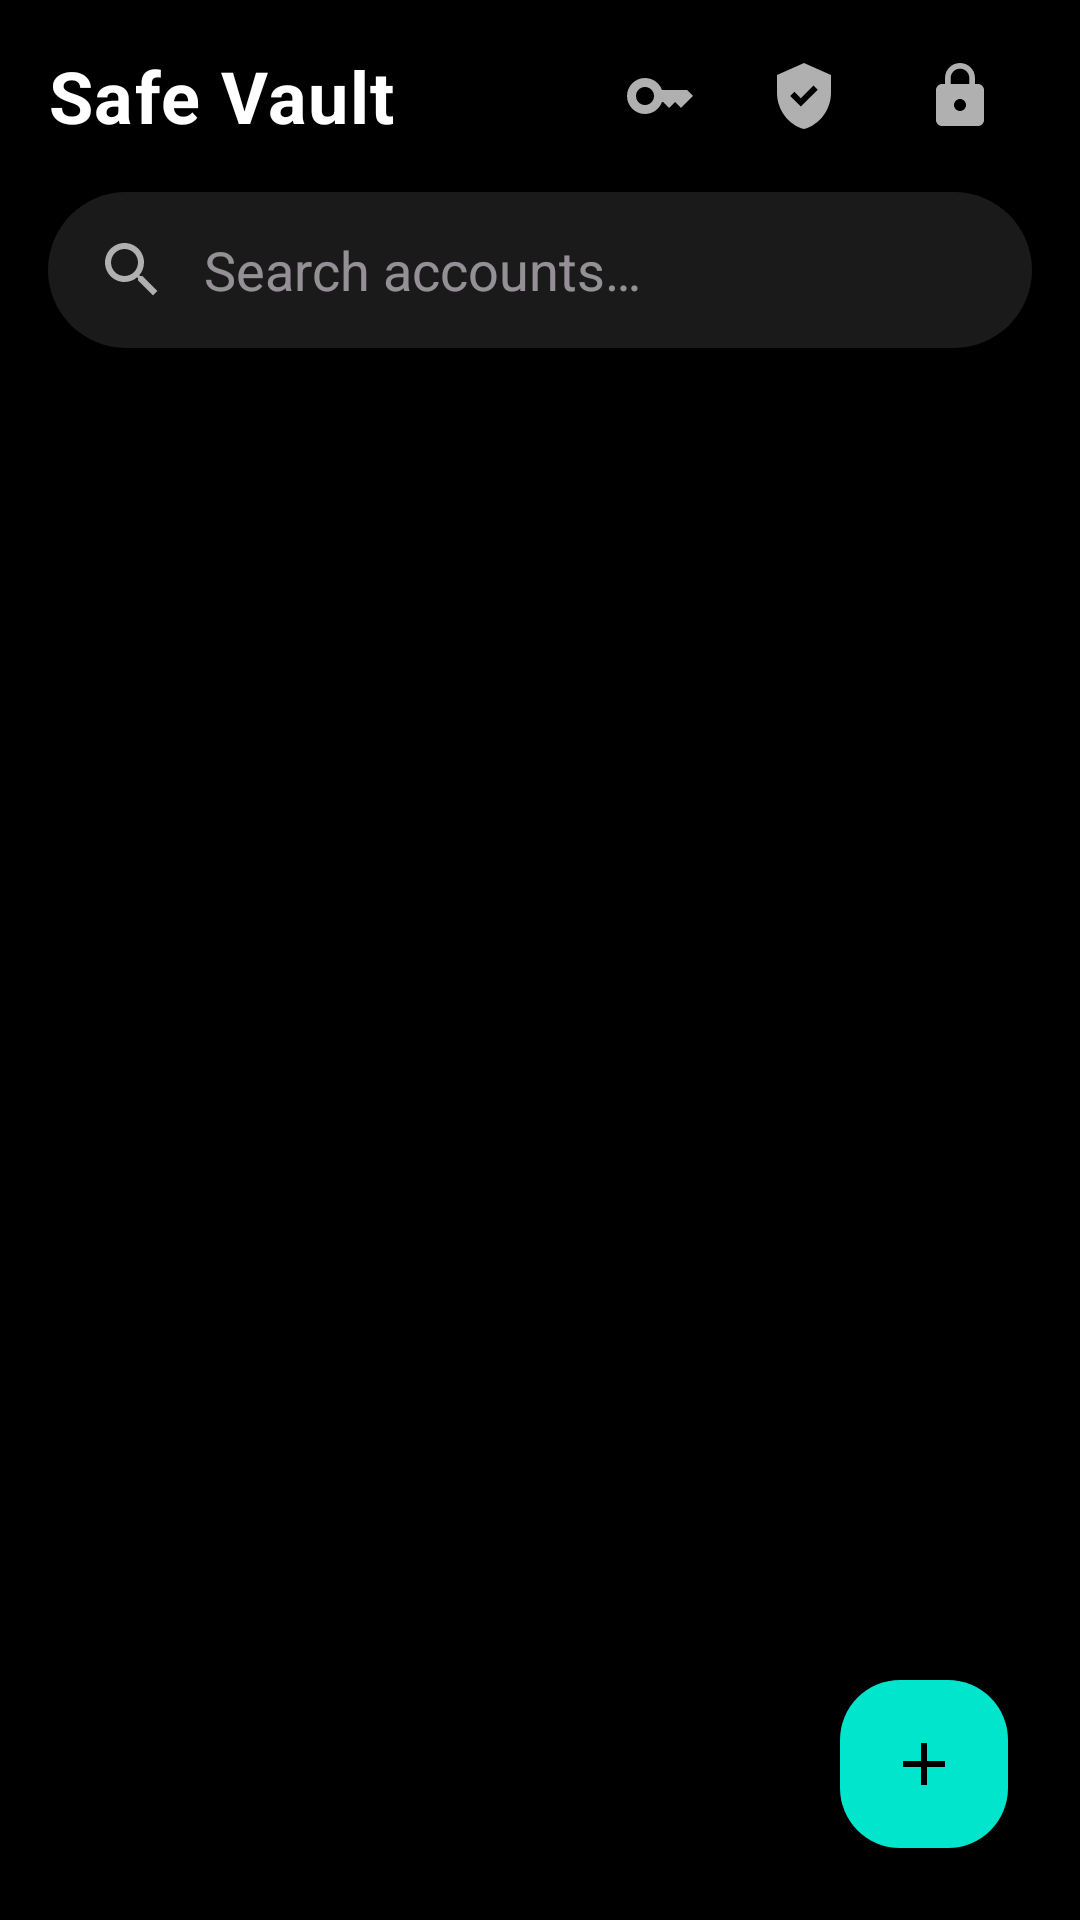

Icon bounding boxes for this 1080w x 1920h phone screenshot, format (x1, y1, x2, y2):
Add entry: (840, 1680, 1008, 1848)
Lock vault: (936, 63, 984, 126)
Open generator: (627, 78, 693, 114)
search: (105, 243, 157, 295)
Security: (777, 63, 831, 129)
